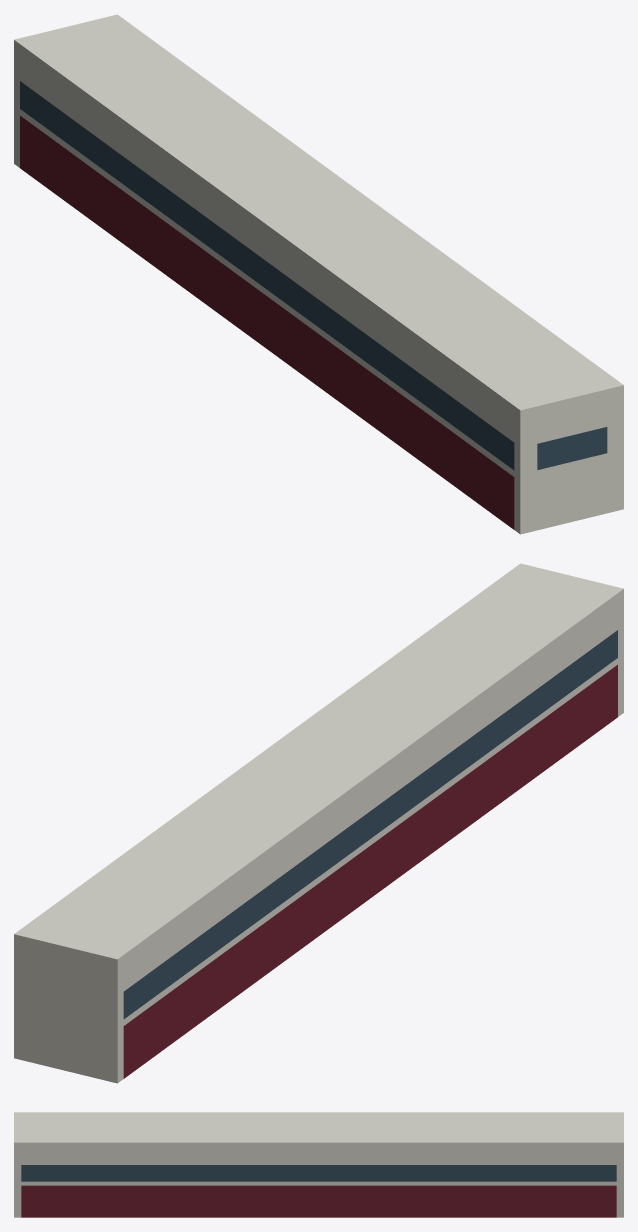
The model's file is 4_far.fbx.
3 views of the same model, one above another, from view 1: azimuth 30°, elevation 25°; view 2: azimuth 150°, elevation 25°; view 3: azimuth 270°, elevation 25° (orthographic). The views are drawn at different scales.
Parts seen in each view (by area): view 1: 21_4_far; view 2: 21_4_far; view 3: 21_4_far.
Boxes of the visible parts, box(x1,y1,x2,y2) form: 21_4_far: box(14, 14, 623, 534); 21_4_far: box(14, 563, 623, 1083); 21_4_far: box(14, 1112, 623, 1217).
Bounding box in the file's own units: 2.96 × 3.38 × 25.
